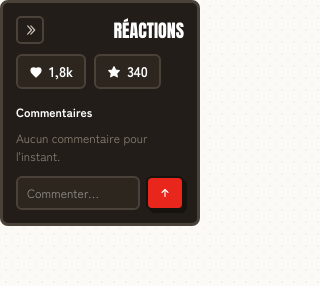
Test: ReactionsAside (DR-4 FE-6 / DR-9 FE5) › a rejected ♥ toggle reverts and shows an inline error
This screenshot has width=320, height=286.
Click the button named "J'aime" at (51, 72), box [16,54,86,89]
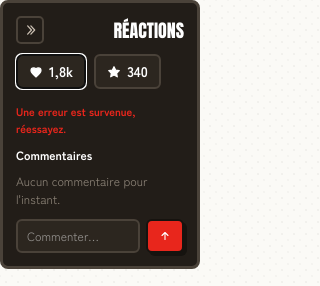
Result: the message "Une erreur est survenue, réessayez." is shown at [16,103,136,136]
